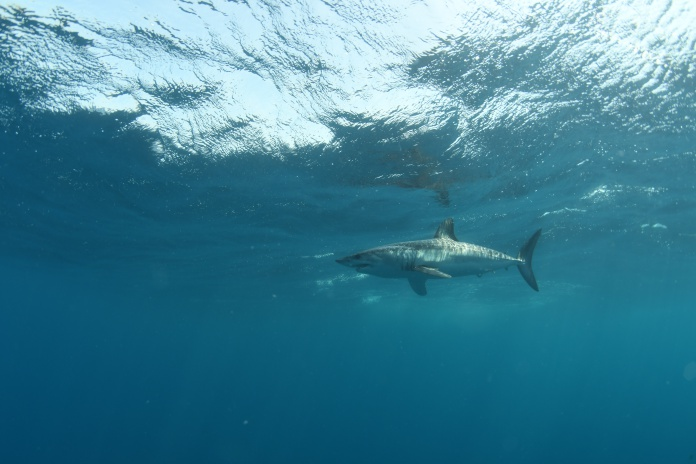Mako: (325, 212, 551, 308)
